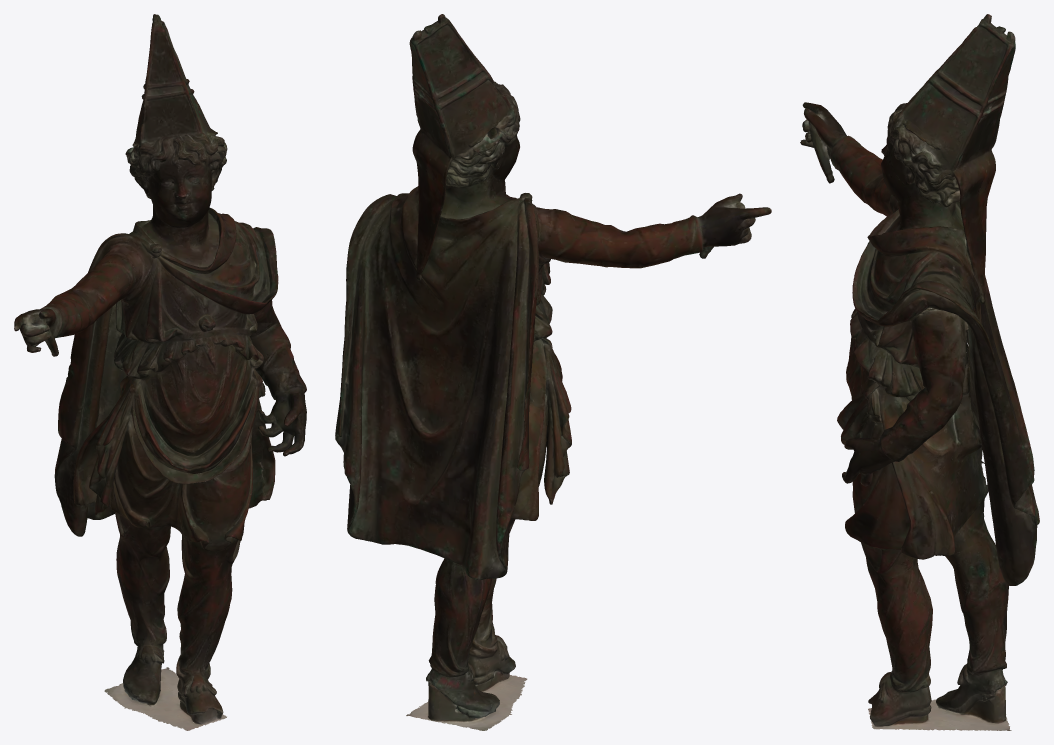
Rendered from preview.glb.
3 renders of one model, left to right at view 1: azimuth 30°, elevation 25°; view 2: azimuth 150°, elevation 25°; view 3: azimuth 270°, elevation 25°, orthographic. The views are drawn at different scales.
Visible parts, largest first — view 1: _n3d; view 2: _n3d; view 3: _n3d.
Boxes of the visible parts, bbox=[...] form: _n3d: bbox=[14, 14, 306, 730]; _n3d: bbox=[335, 14, 771, 730]; _n3d: bbox=[800, 14, 1039, 730].
Bounding box in the file's own units: 0.332 × 0.6399 × 0.1968.
1 material, 1 textured.
